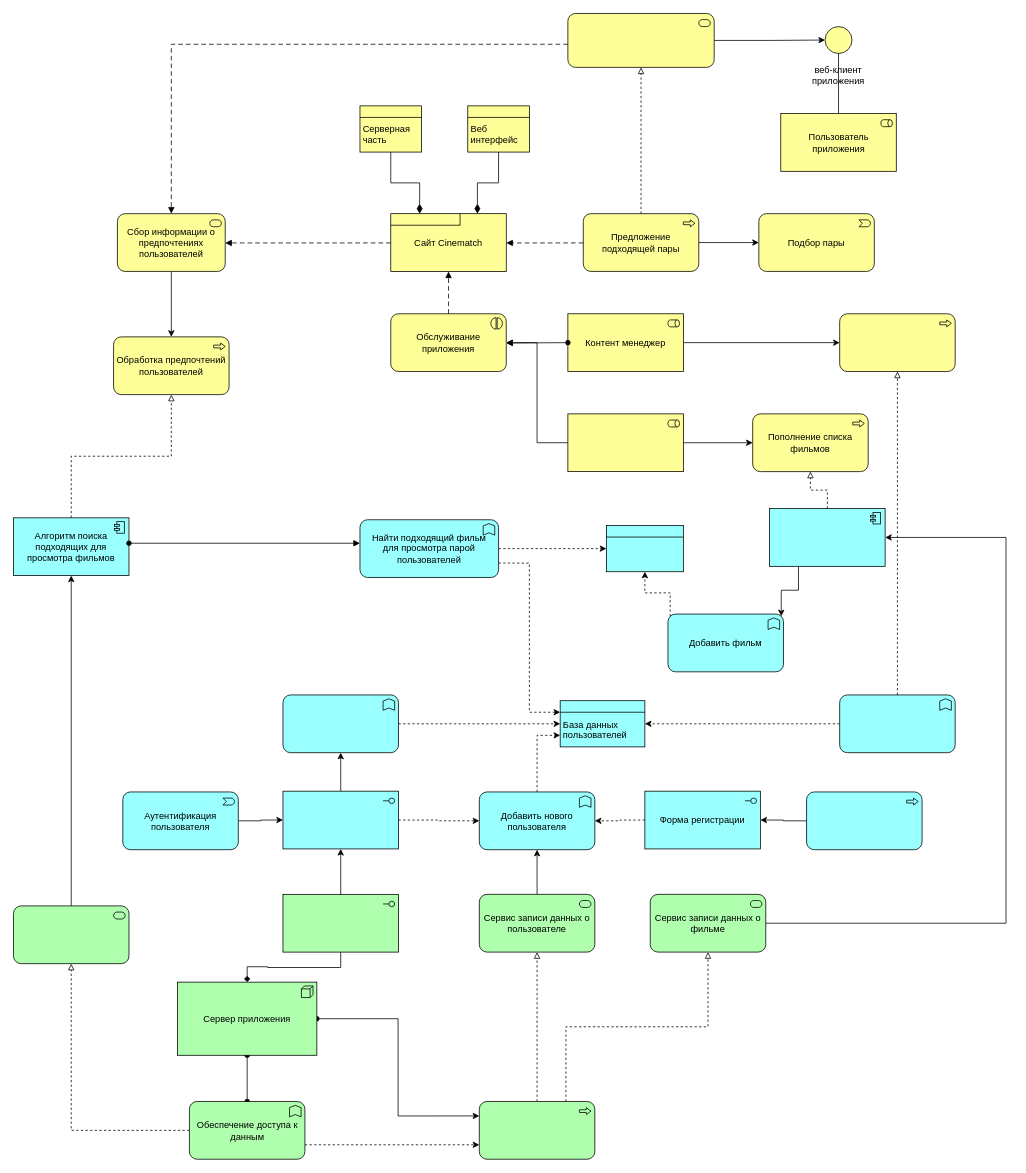
Some shapes in this 1026 by 1173 pixel diagram are drawn without their labels. The box of each missing label's shape, as (x1, y1, x2, y2) in pixels:
Алгоритм для встраивания новых фильмов в бд: (769, 508, 885, 566)
База данных фильмов: (606, 525, 683, 572)
Добавление друзей пользователей из сторонних сервисов: (282, 694, 398, 753)
Забанить пользователя: (839, 694, 955, 753)
Запись новых данных: (479, 1101, 595, 1159)
Модератор приложения: (567, 413, 683, 472)
Модерация профилей пользователей: (839, 313, 955, 372)
Получение API: (282, 894, 398, 952)
Регистрация пользователя: (806, 791, 922, 850)
Сервис для просмотра кино: (567, 13, 714, 67)
Сервис получения данных: (13, 905, 129, 964)
Строение API логина для аутентификации: (282, 790, 398, 849)
